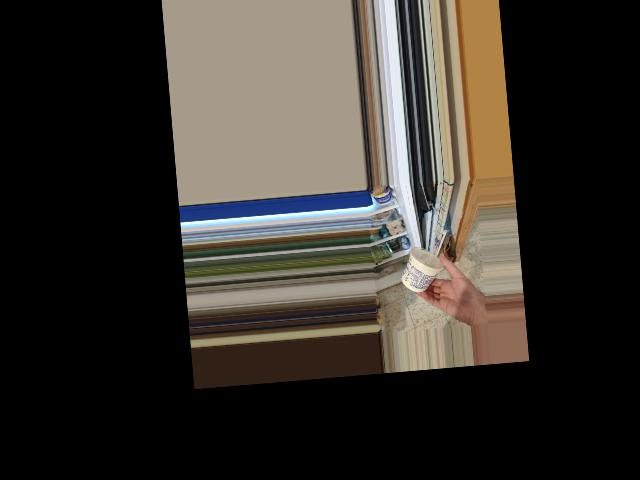cotage: (400, 243, 444, 286)
